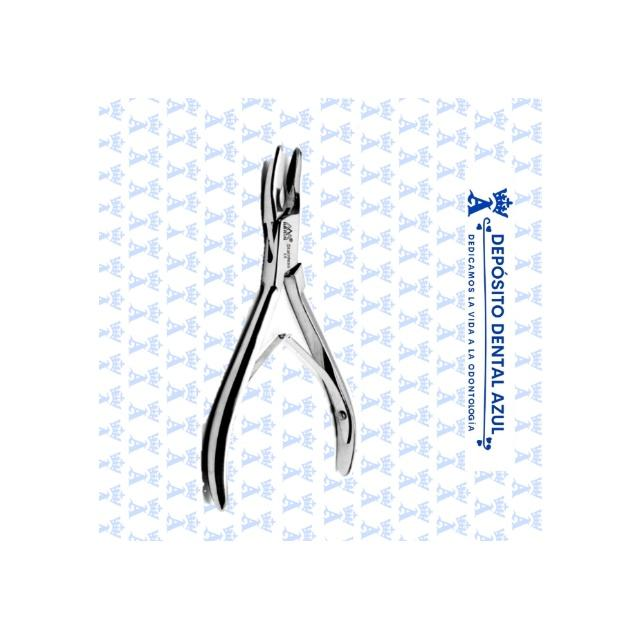gubia: (199, 146, 359, 511)
